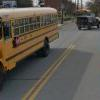Bus: (3, 3, 64, 71)
